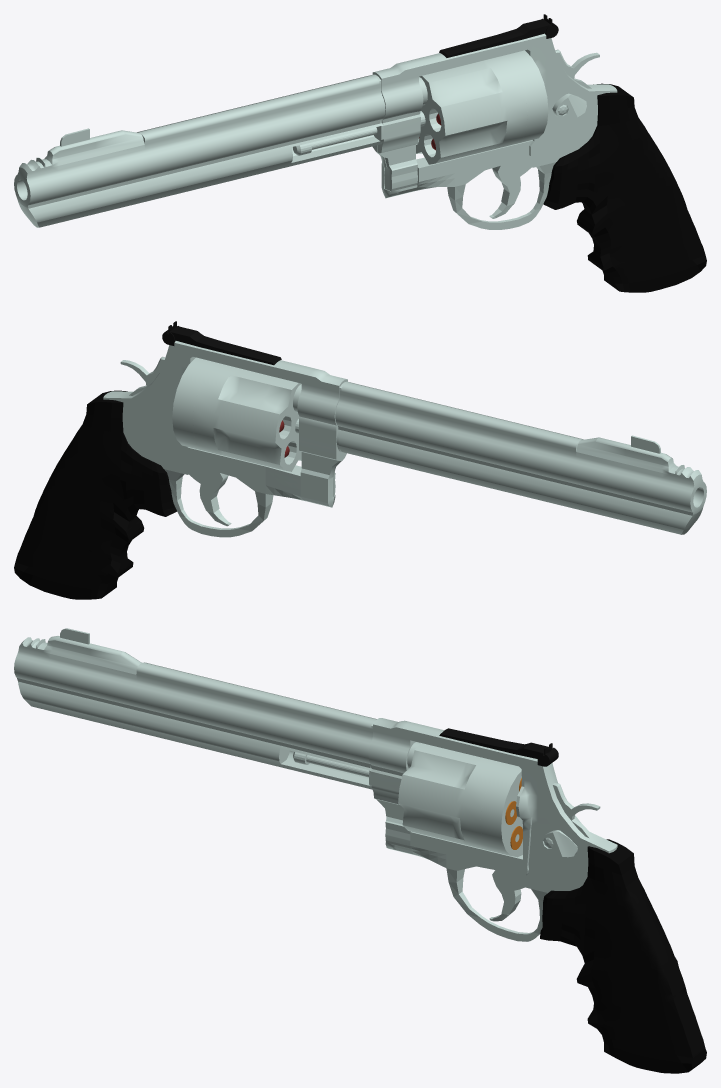
The picture shows the model from 3 angles, top to bottom: view 1: azimuth 30°, elevation 25°; view 2: azimuth 150°, elevation 25°; view 3: azimuth 330°, elevation 25°; orthographic projection.
Visible parts, largest first — view 1: Cylinder014, Box004, Cylinder012, オブジェクト002, Cylinder015, Box002, Cylinder016, Box005; view 2: Cylinder014, Box004, Cylinder012, Cylinder015, Box002, Box005; view 3: Cylinder014, Box004, Cylinder012, オブジェクト002, Cylinder015, Box002, Cylinder016.
Part boxes in pixels (x1,y1,x2,y2): Cylinder014: (14,33,617,229); Box004: (543,83,706,292); Cylinder012: (293,50,548,164); オブジェクト002: (374,117,420,191); Cylinder015: (439,14,558,57); Box002: (489,161,531,218); Cylinder016: (552,93,586,118); Box005: (555,49,599,88); Cylinder014: (103,341,706,537); Box004: (14,390,177,599); Cylinder012: (172,357,301,471); Cylinder015: (162,321,281,365); Box002: (189,468,231,526); Box005: (120,356,165,395); Cylinder014: (14,628,617,941); Box004: (540,839,706,1073); Cylinder012: (293,743,522,857); オブジェクト002: (369,770,410,848); Cylinder015: (439,728,558,766); Box002: (489,870,524,921); Cylinder016: (540,830,577,857).
Size of the model in its own units: 144 by 59.69 by 17.55.
